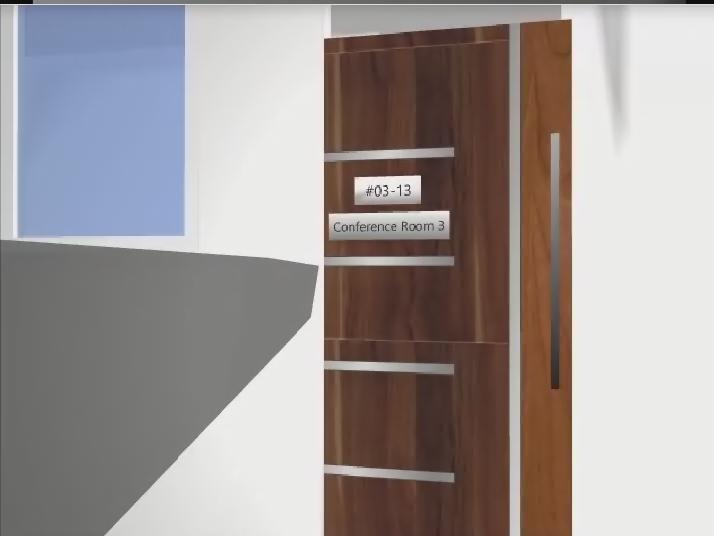door: (323, 20, 572, 536)
